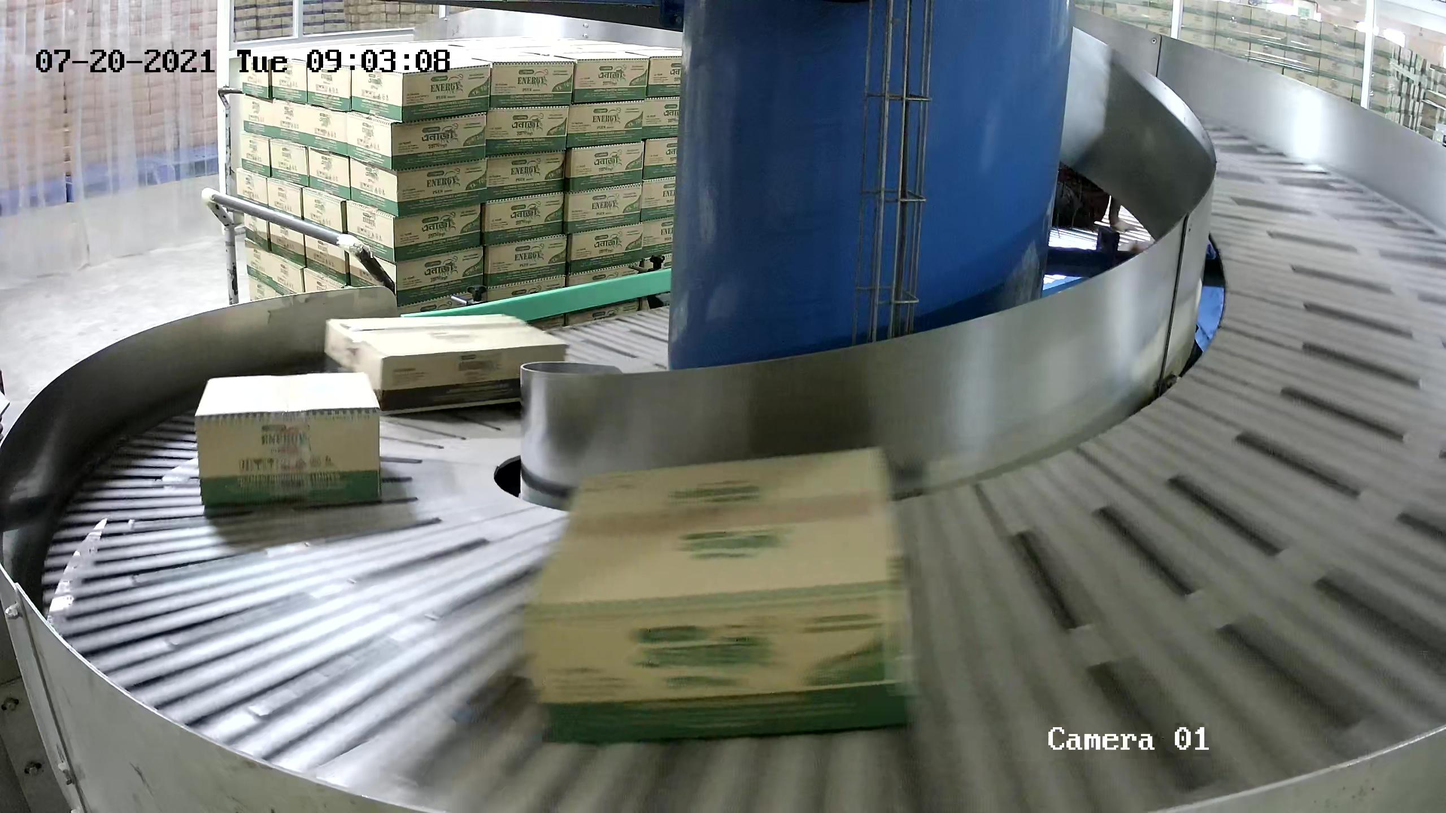Box: (517, 440, 923, 747), (192, 371, 385, 506), (322, 310, 569, 415)
